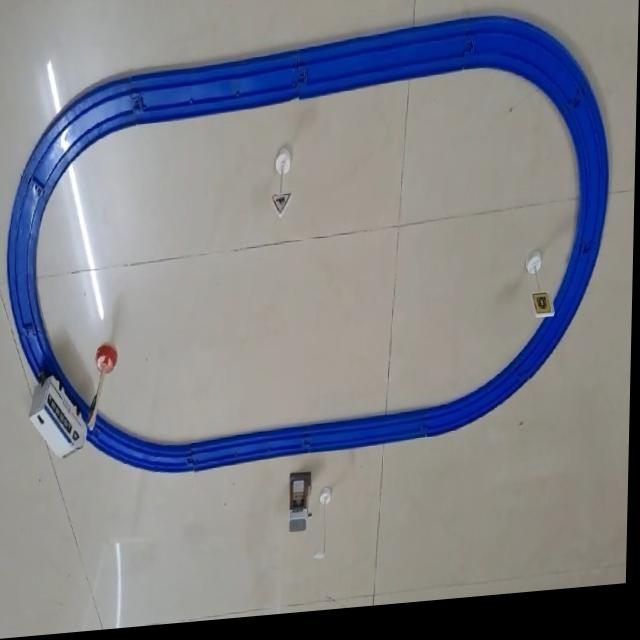bus: (30, 372, 91, 464)
